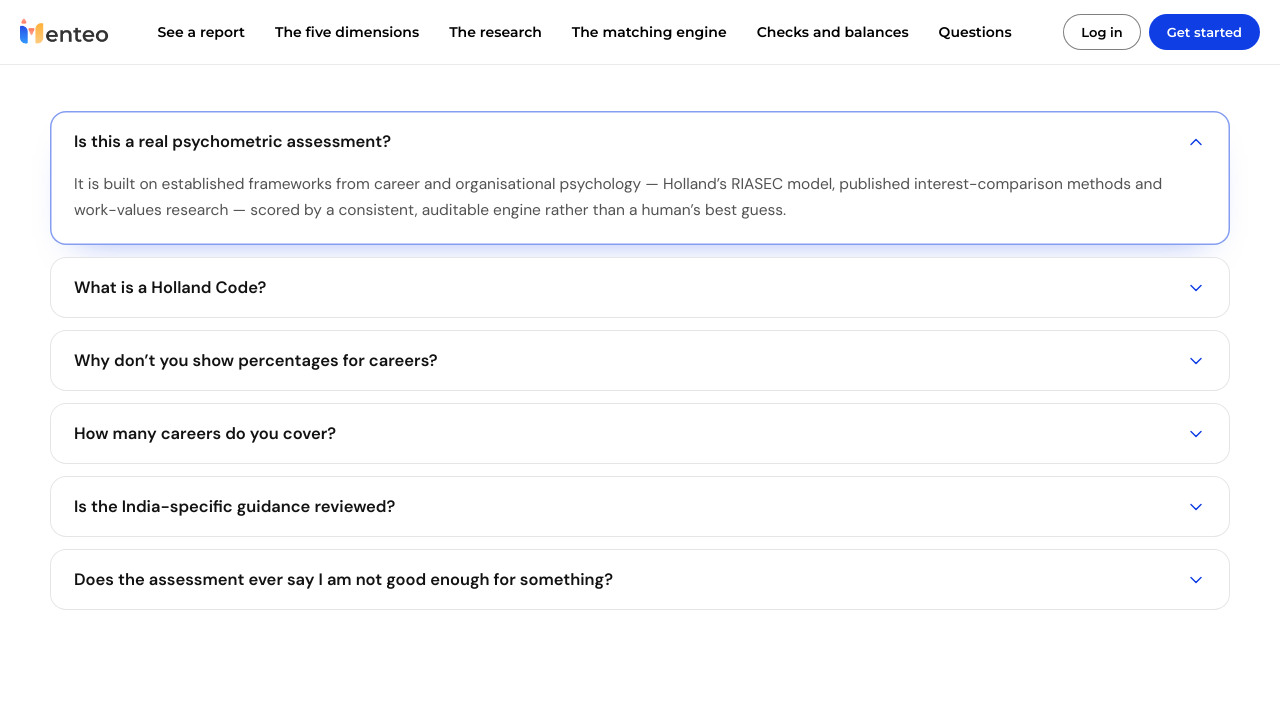
Test: Career X-Ray › a FAQ question opens to reveal its answer
The image size is (1280, 720).
(page scrolled)
Click the button "Why don’t you show percentages for careers?" at [256, 361], box [50,330,1230,392]
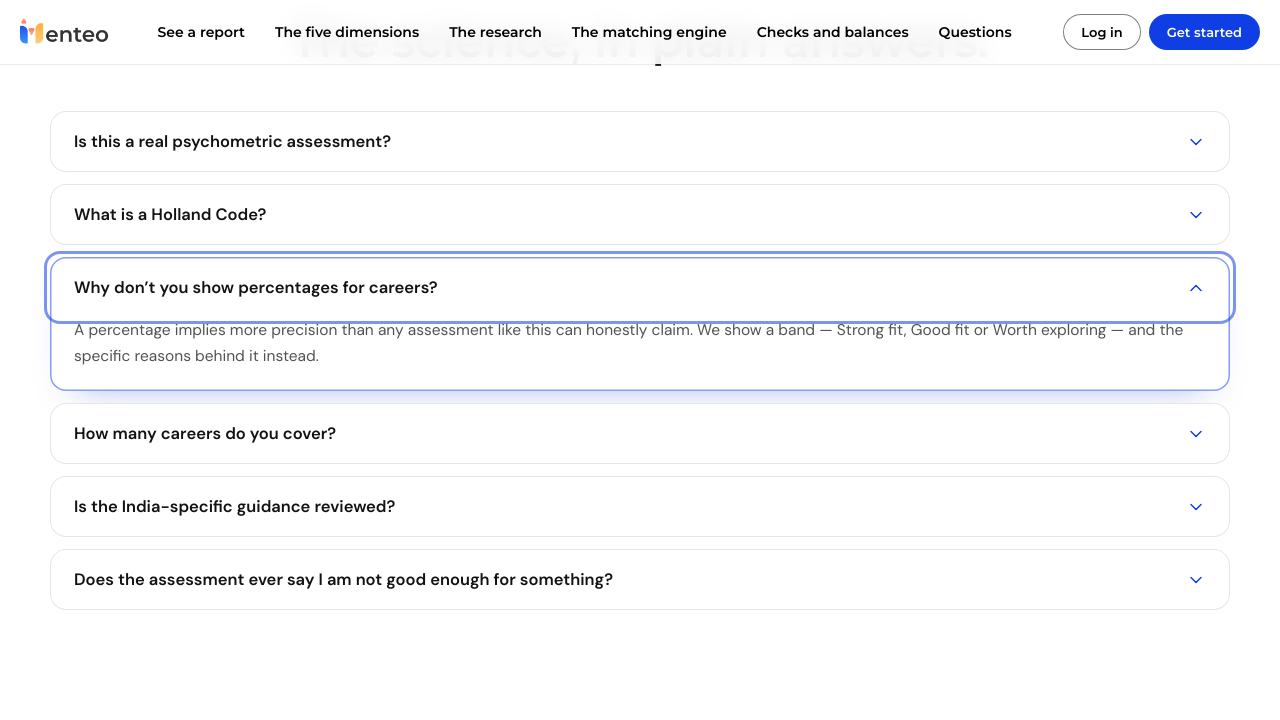
Result: the button "Why don’t you show percentages for careers?" is expanded at [50,257,1230,318]
